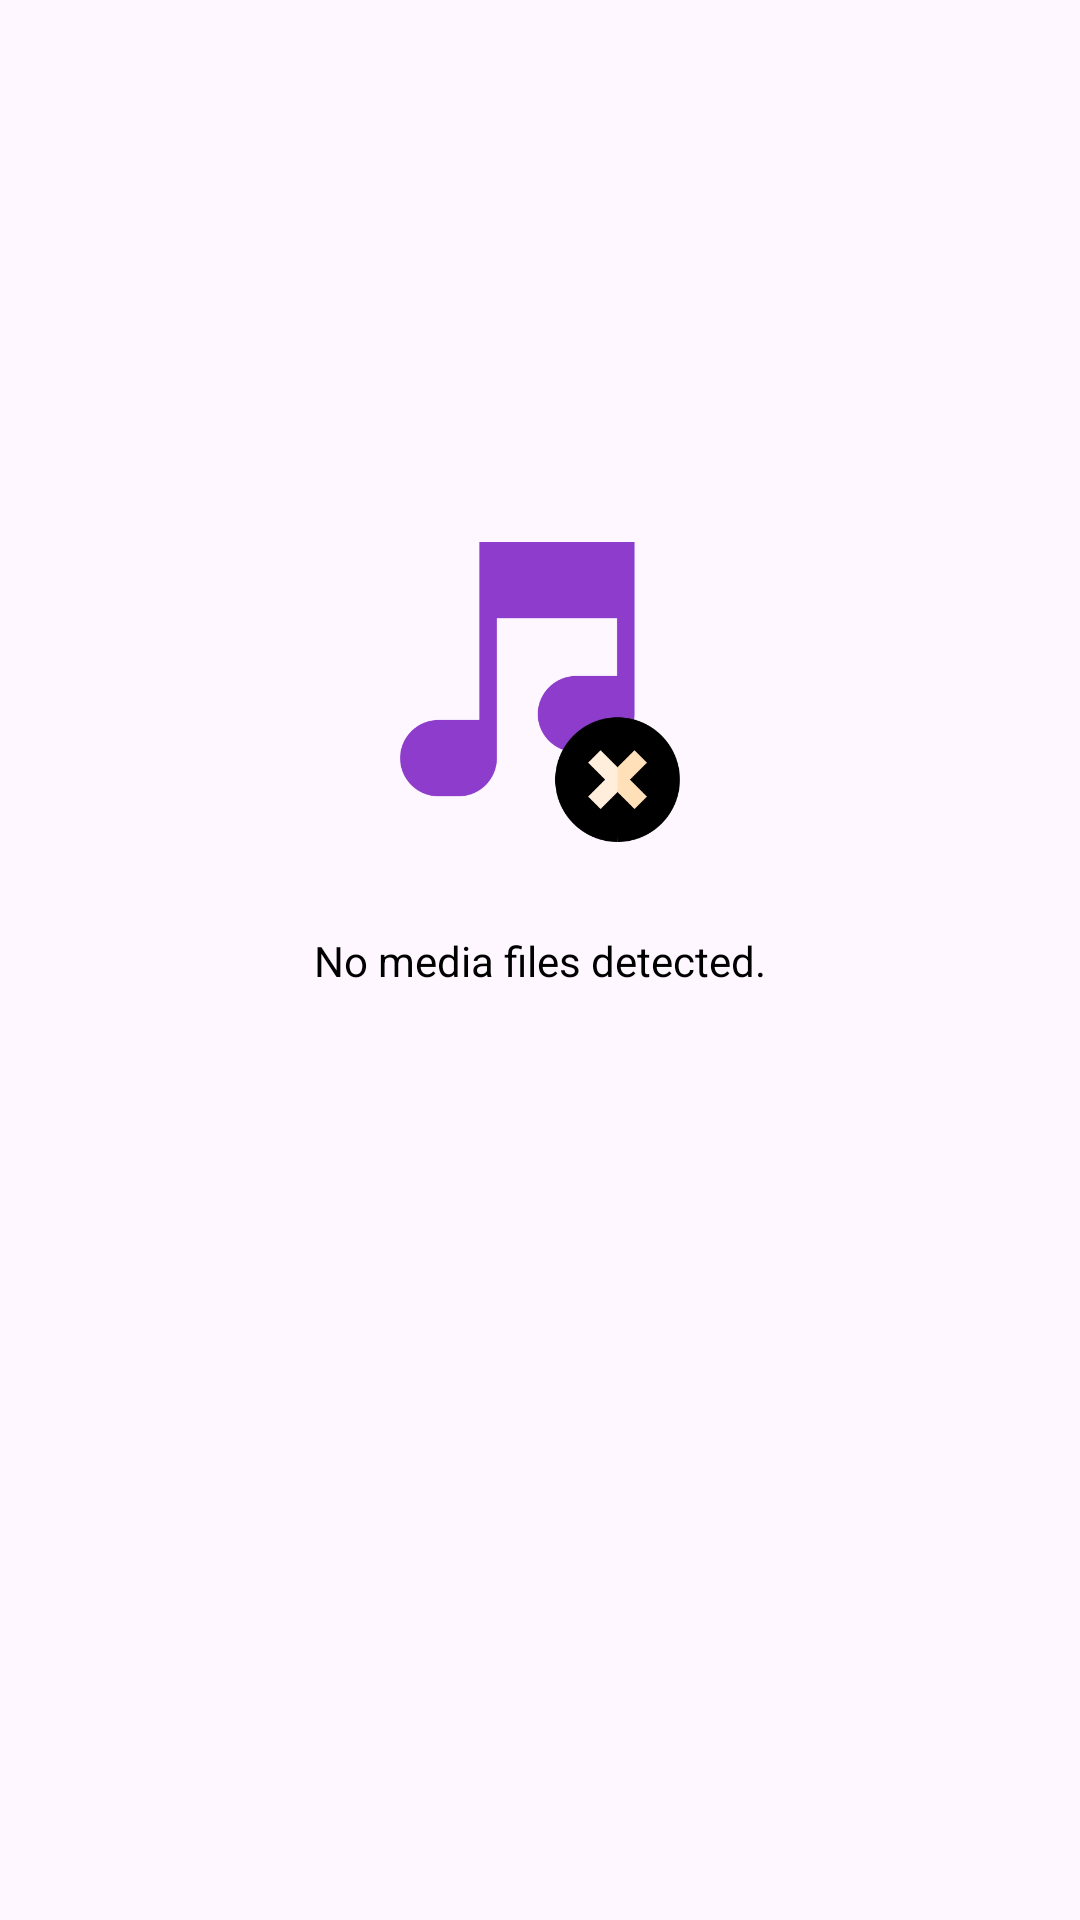

Screen size 1080w x 1920h. Icon name, then its box in pixels as (x1, y1, x2, y2):
no music: (400, 542, 680, 842)
